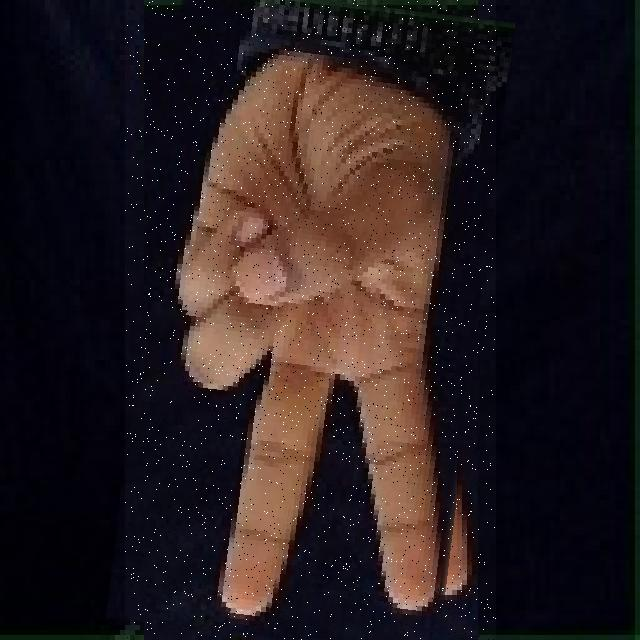No: (125, 0, 496, 640)
